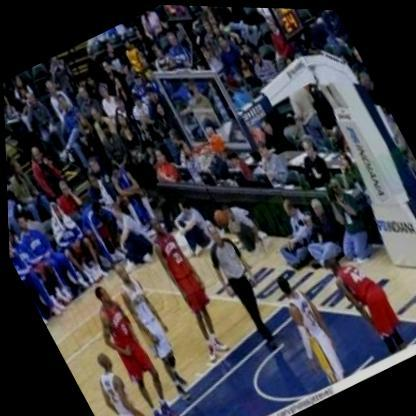basketball: (205, 200, 232, 231)
